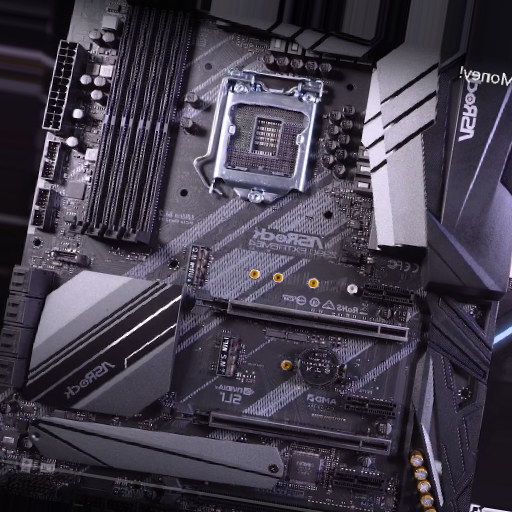CPU: (215, 78, 322, 206)
GPU: (169, 401, 394, 460), (188, 288, 411, 343)
MOTHERBOARD: (7, 4, 505, 507)
RAM: (75, 2, 204, 252)
SSD: (210, 335, 241, 378), (184, 245, 210, 288)
